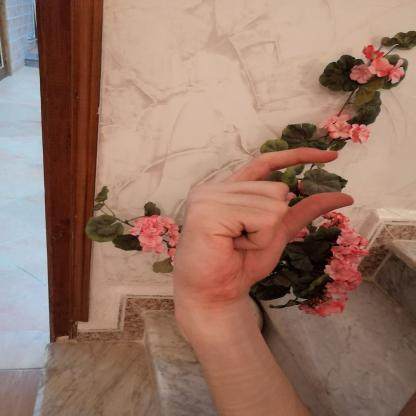DELL: (155, 140, 363, 309)
